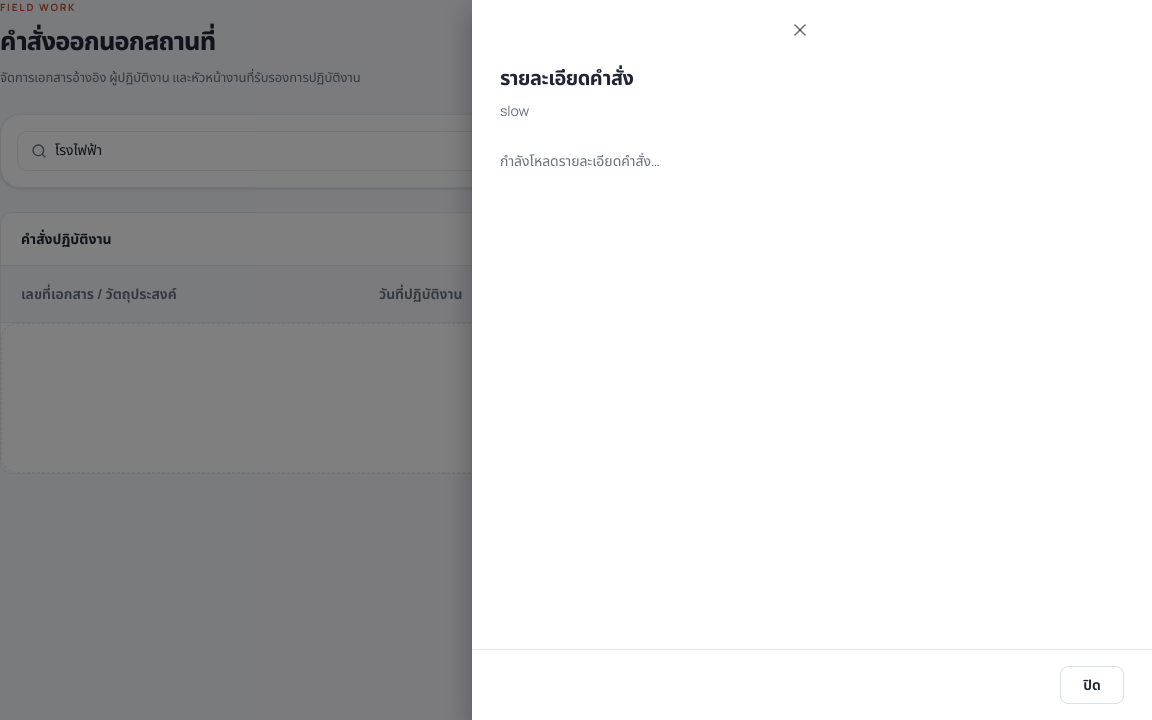
Test: closes a pending detail without losing list parameters and ignores its late result
Click the button "ปิด": point(1092, 685) [1060,666,1124,704]
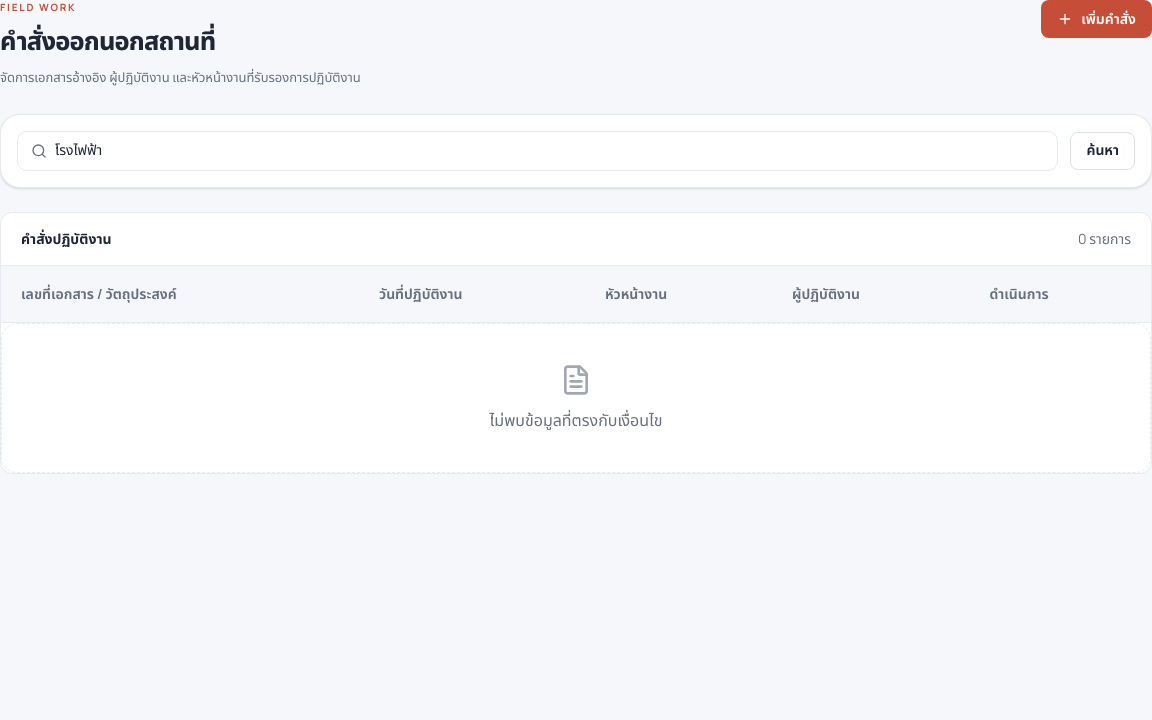
Expected: the dialog is gone
